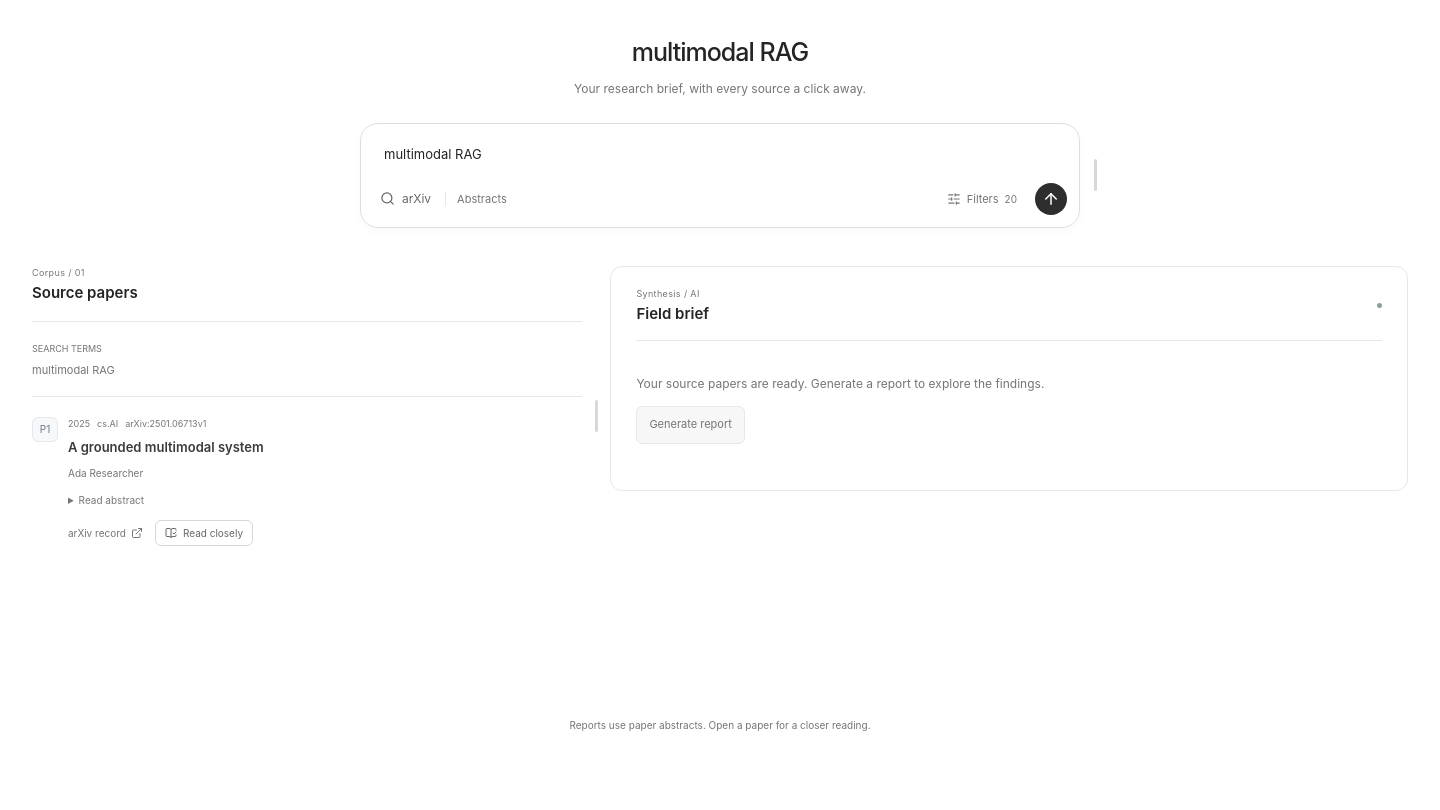
Test: ResearchDesk › renders model text before completion and preserves an interrupted draft
Click the button "Generate report". click: [691, 425]
box: [636,406,745,444]
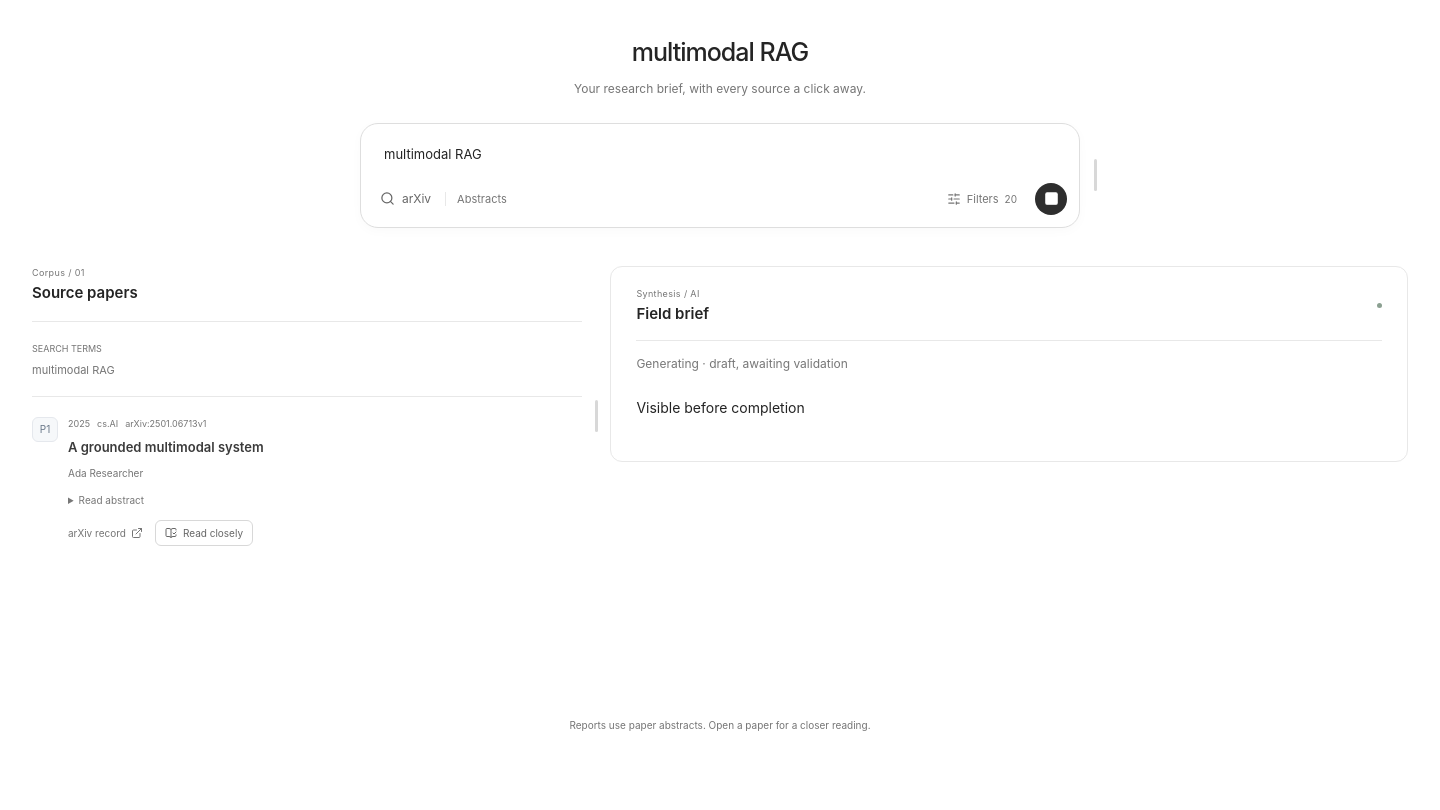
Check: the text "Visible before completion" is shown, box [636,399,805,416]
Click the button named "Stop generation". click: [1051, 199]
box: [1035,183,1067,215]
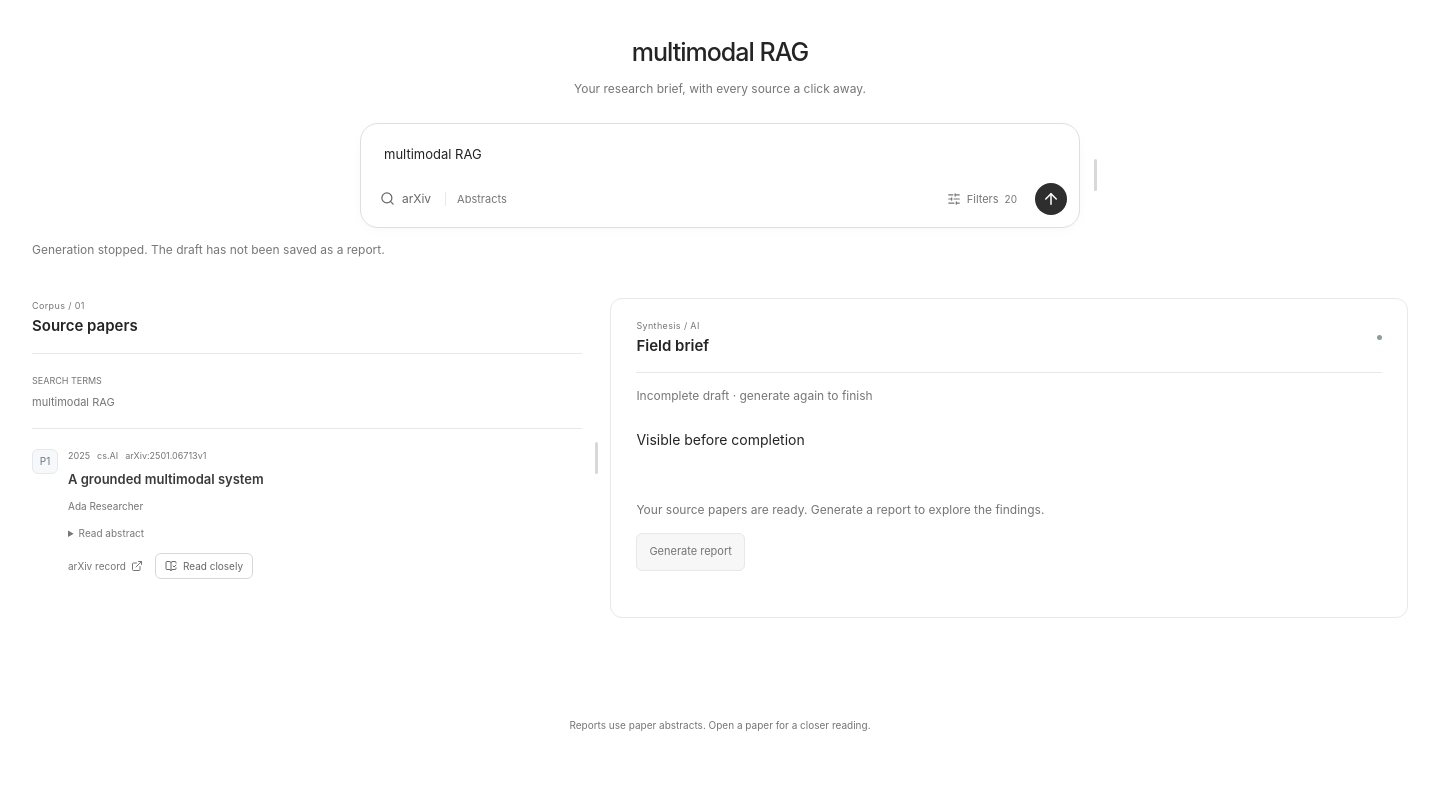
Check: the text "Visible before completion" is shown, box [636,431,805,448]
Check: the button "Generate report" is enabled, box [636,533,745,571]
Check: the text "Incomplete draft · generate again to finish" is shown, box [636,388,873,403]
